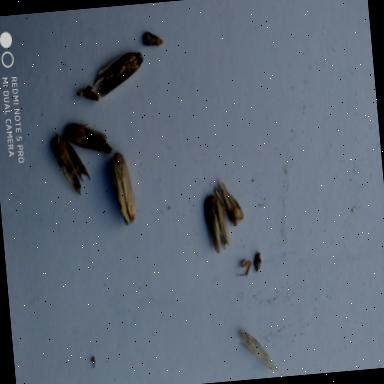pbw: (49, 128, 94, 202), (90, 48, 148, 103), (106, 150, 142, 231), (63, 110, 116, 160), (202, 191, 234, 261), (212, 178, 250, 230)
